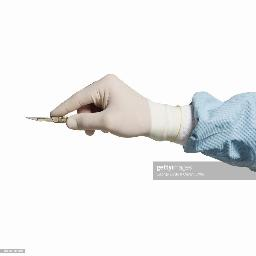scalpel: (24, 117, 72, 123)
